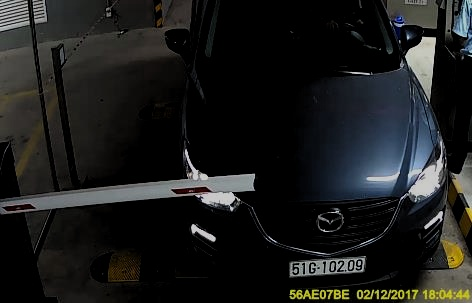plate: (286, 255, 365, 277)
